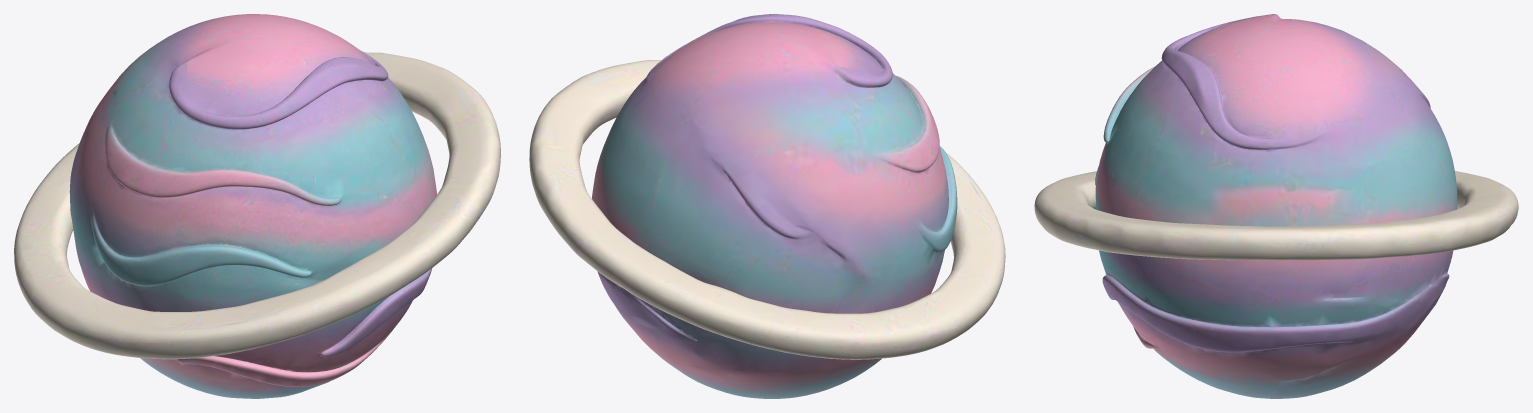
The picture shows the model from 3 angles, left to right: view 1: azimuth 30°, elevation 25°; view 2: azimuth 150°, elevation 25°; view 3: azimuth 270°, elevation 25°; orthographic projection. The views are drawn at different scales.
Bounding box in the file's own units: 1.9 × 1.52 × 1.9.
Materials: 1 (1 with a texture image).
